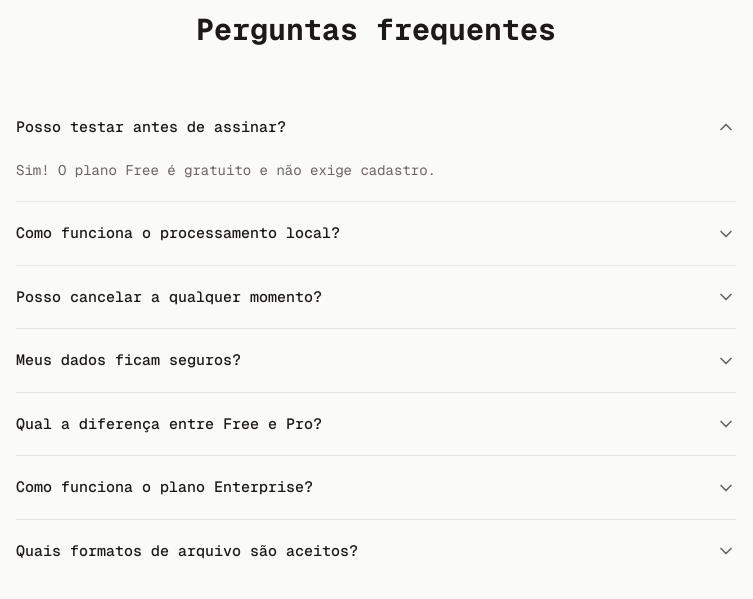
Test: PricingFAQ › aria-expanded state › all buttons remain collapsed when clicking through items sequentially
Earlier steps of the test are not shown.
Expected: the button "Posso testar antes de assinar?" is expanded, x1=16 y1=96 x2=736 y2=158
Click the button "Como funciona o processamento local?".
click(178, 233)  # box x1=16 y1=202 x2=736 y2=265
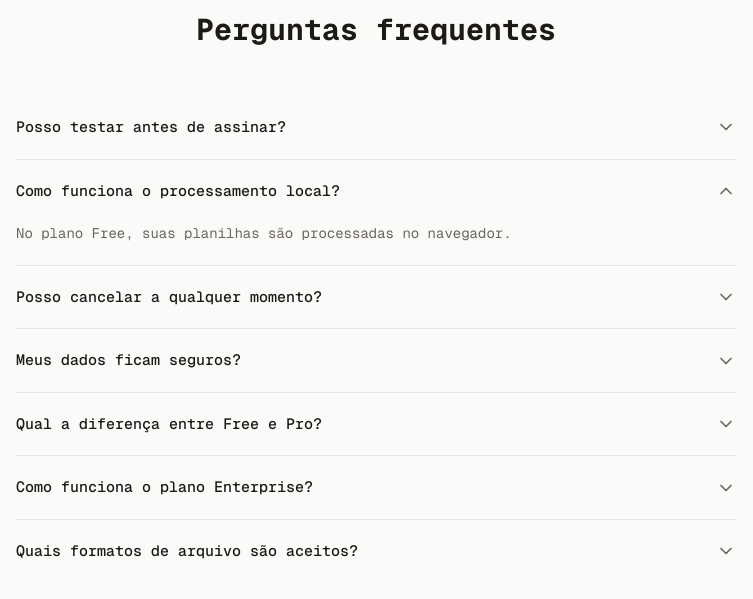
Now the button "Como funciona o processamento local?" is expanded, box x1=16 y1=160 x2=736 y2=222
Now the button "Posso testar antes de assinar?" is collapsed, box x1=16 y1=96 x2=736 y2=158
Click the button "Posso cancelar a qualquer momento?".
click(169, 296)  # box x1=16 y1=266 x2=736 y2=328
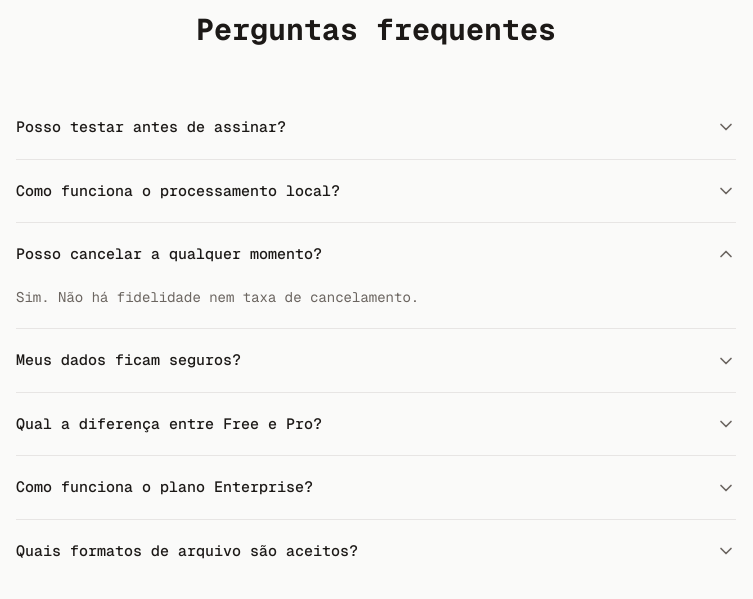
Now the button "Posso testar antes de assinar?" is collapsed, box x1=16 y1=96 x2=736 y2=158
Now the button "Posso cancelar a qualquer momento?" is expanded, box x1=16 y1=223 x2=736 y2=286
Now the button "Como funciona o processamento local?" is collapsed, box x1=16 y1=160 x2=736 y2=222
Click the button "Meus dados ficam seguros?".
click(129, 360)  # box x1=16 y1=329 x2=736 y2=392
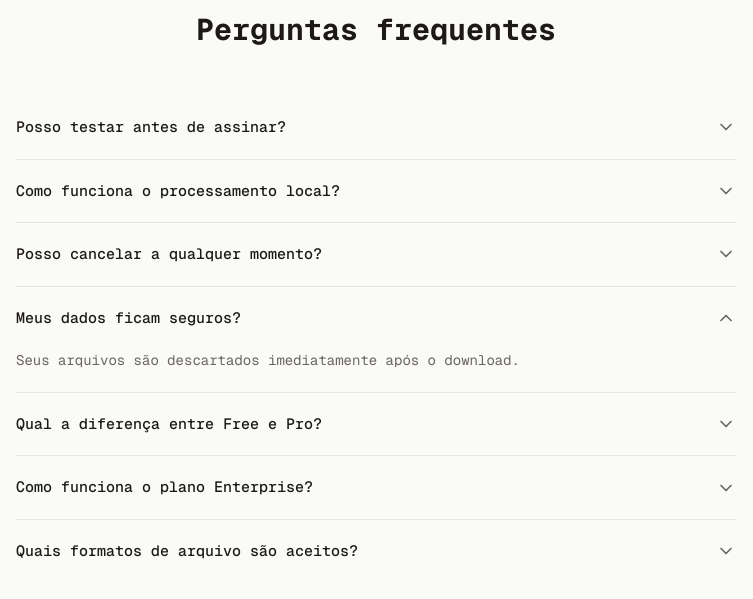
Now the button "Posso testar antes de assinar?" is collapsed, box x1=16 y1=96 x2=736 y2=158
Now the button "Como funciona o processamento local?" is collapsed, box x1=16 y1=160 x2=736 y2=222
Now the button "Meus dados ficam seguros?" is expanded, box x1=16 y1=286 x2=736 y2=349
Click the button "Qual a diferença entre Free e Pro?".
click(169, 423)  # box x1=16 y1=393 x2=736 y2=455
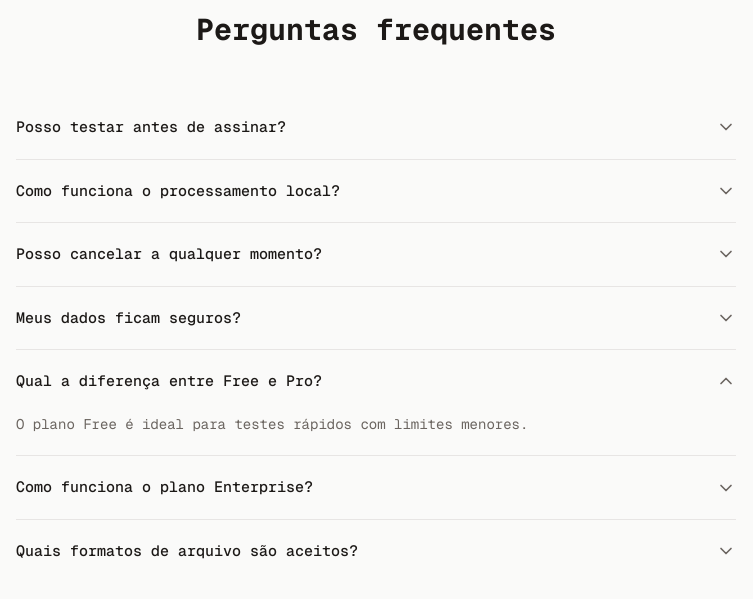
Now the button "Posso testar antes de assinar?" is collapsed, box x1=16 y1=96 x2=736 y2=158
Now the button "Como funciona o processamento local?" is collapsed, box x1=16 y1=160 x2=736 y2=222
Now the button "Qual a diferença entre Free e Pro?" is expanded, box x1=16 y1=350 x2=736 y2=412
Click the button "Como funciona o plano Enterprise?".
click(165, 487)  # box x1=16 y1=456 x2=736 y2=519
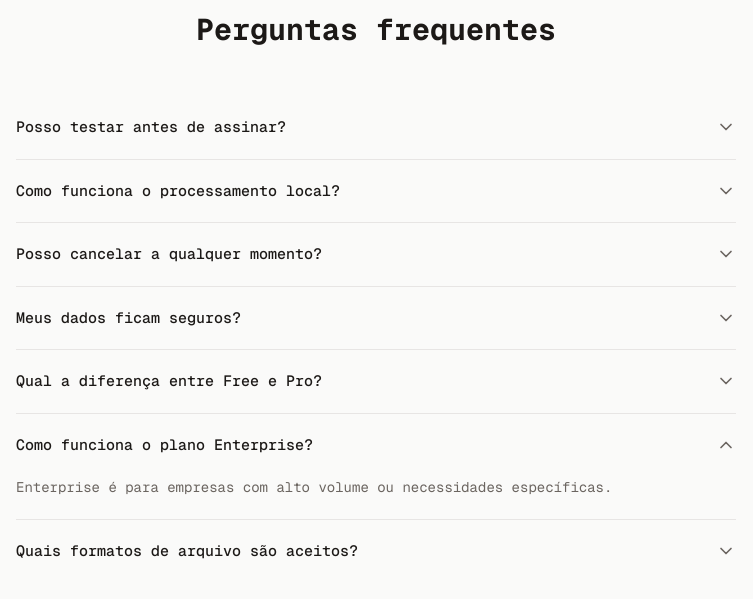
Now the button "Posso testar antes de assinar?" is collapsed, box x1=16 y1=96 x2=736 y2=158
Now the button "Como funciona o processamento local?" is collapsed, box x1=16 y1=160 x2=736 y2=222
Now the button "Como funciona o plano Enterprise?" is expanded, box x1=16 y1=414 x2=736 y2=476
Click the button "Quais formatos de arquivo são aceitos?".
click(187, 550)  # box x1=16 y1=520 x2=736 y2=582
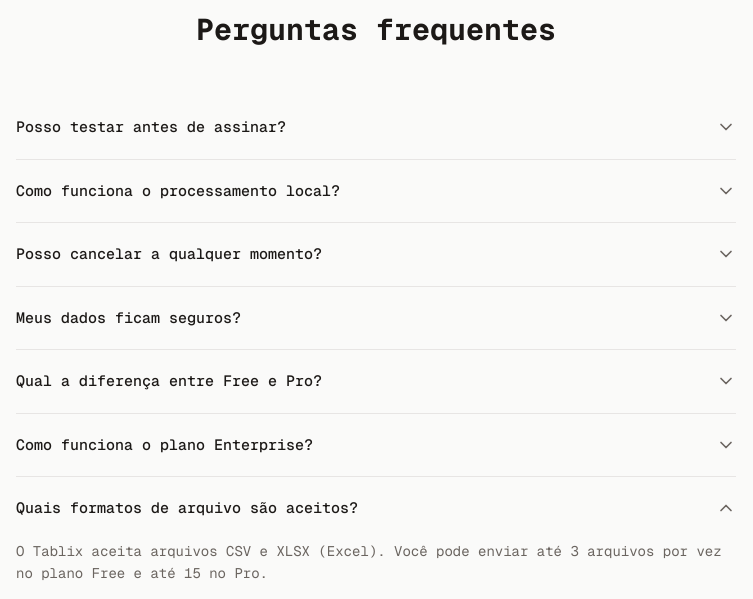
Now the button "Posso testar antes de assinar?" is collapsed, box x1=16 y1=96 x2=736 y2=158
Now the button "Como funciona o processamento local?" is collapsed, box x1=16 y1=160 x2=736 y2=222
Now the button "Quais formatos de arquivo são aceitos?" is expanded, box x1=16 y1=477 x2=736 y2=540
